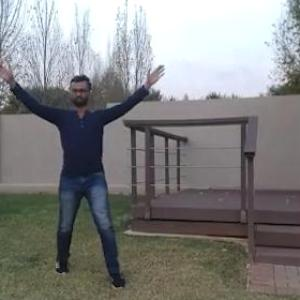takeoff: (0, 50, 187, 292)
